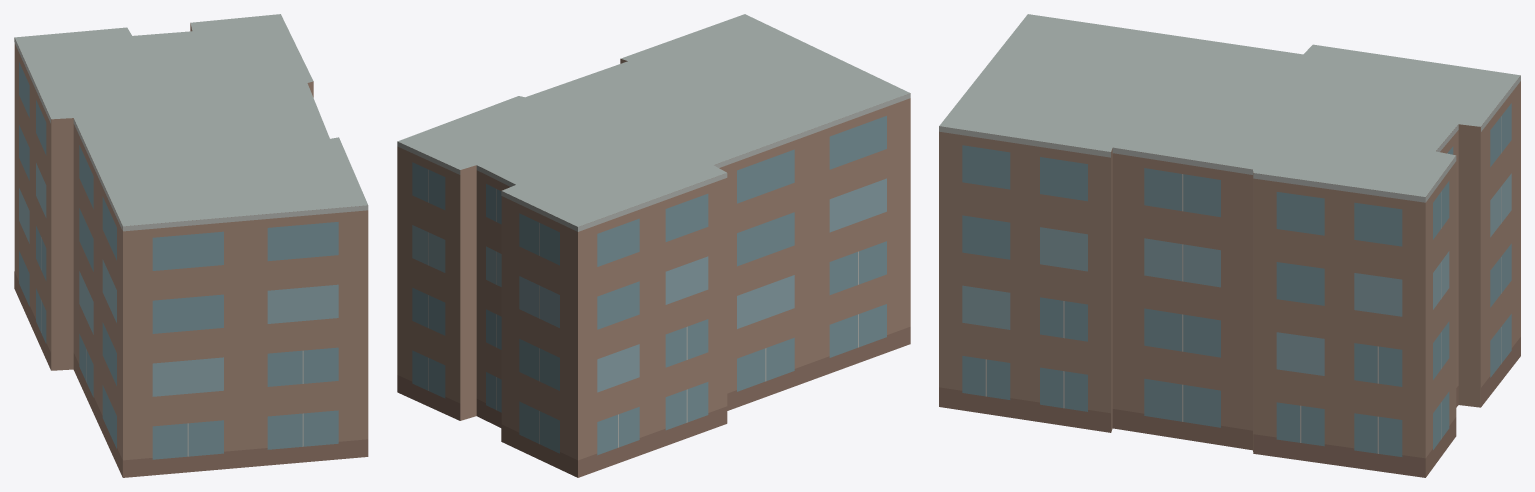
The model's file is survey-upis-32893896.glb.
The picture shows the model from 3 angles, left to right: view 1: azimuth 30°, elevation 25°; view 2: azimuth 150°, elevation 25°; view 3: azimuth 270°, elevation 25°; orthographic projection. The views are drawn at different scales.
Parts seen in each view (by area): view 1: survey-upis-32893896.tmp; view 2: survey-upis-32893896.tmp; view 3: survey-upis-32893896.tmp.
Part boxes in pixels (<box>): survey-upis-32893896.tmp: <box>14,14,368,477</box>; survey-upis-32893896.tmp: <box>397,14,910,477</box>; survey-upis-32893896.tmp: <box>939,14,1520,477</box>.
Bounding box in the file's own units: 17.14 × 12.25 × 23.01.
